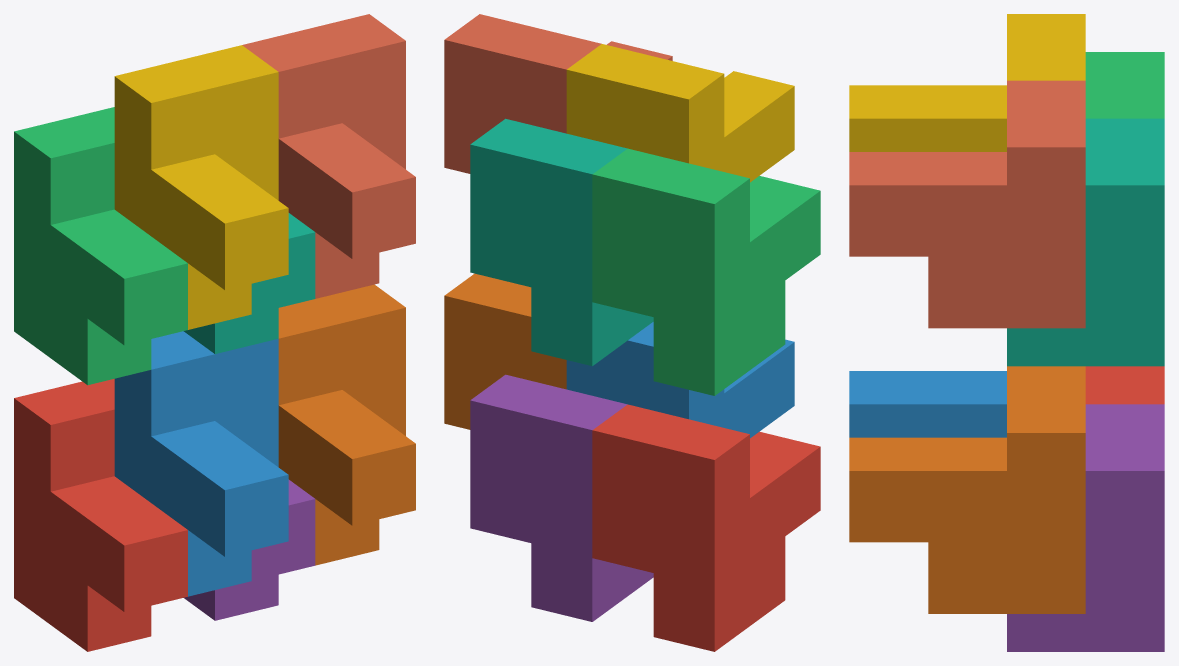
File: tiling.obj
The picture shows the model from 3 angles, left to right: view 1: azimuth 30°, elevation 25°; view 2: azimuth 150°, elevation 25°; view 3: azimuth 270°, elevation 25°; orthographic projection. The views are drawn at different scales.
Parts seen in each view (by area): view 1: copy_1_domain_4, copy_1_domain_3, copy_1_domain_1, copy_1_domain_2, copy_1_domain_8, copy_1_domain_6, copy_1_domain_5, copy_1_domain_7; view 2: copy_1_domain_1, copy_1_domain_3, copy_1_domain_7, copy_1_domain_5, copy_1_domain_4, copy_1_domain_8, copy_1_domain_6, copy_1_domain_2; view 3: copy_1_domain_6, copy_1_domain_8, copy_1_domain_7, copy_1_domain_5, copy_1_domain_4, copy_1_domain_2, copy_1_domain_3, copy_1_domain_1.
Boxes of the visible parts, <box> form: copy_1_domain_4: <box>114,45,288,329</box>; copy_1_domain_3: <box>14,107,187,385</box>; copy_1_domain_1: <box>14,379,187,651</box>; copy_1_domain_2: <box>114,331,288,596</box>; copy_1_domain_8: <box>242,14,415,298</box>; copy_1_domain_6: <box>278,284,415,565</box>; copy_1_domain_5: <box>183,479,315,620</box>; copy_1_domain_7: <box>183,213,315,353</box>; copy_1_domain_1: <box>592,404,820,651</box>; copy_1_domain_3: <box>592,148,820,395</box>; copy_1_domain_7: <box>470,118,653,366</box>; copy_1_domain_5: <box>470,374,653,621</box>; copy_1_domain_4: <box>566,44,794,182</box>; copy_1_domain_8: <box>444,14,672,173</box>; copy_1_domain_6: <box>444,273,566,429</box>; copy_1_domain_2: <box>566,322,794,438</box>; copy_1_domain_6: <box>849,366,1085,613</box>; copy_1_domain_8: <box>849,80,1085,328</box>; copy_1_domain_7: <box>1007,118,1164,366</box>; copy_1_domain_5: <box>1007,404,1164,651</box>; copy_1_domain_4: <box>849,14,1085,151</box>; copy_1_domain_2: <box>849,371,1006,437</box>; copy_1_domain_3: <box>1085,52,1164,118</box>; copy_1_domain_1: <box>1085,366,1164,404</box>.
Size of the model in its own units: 5 by 8 by 4.
